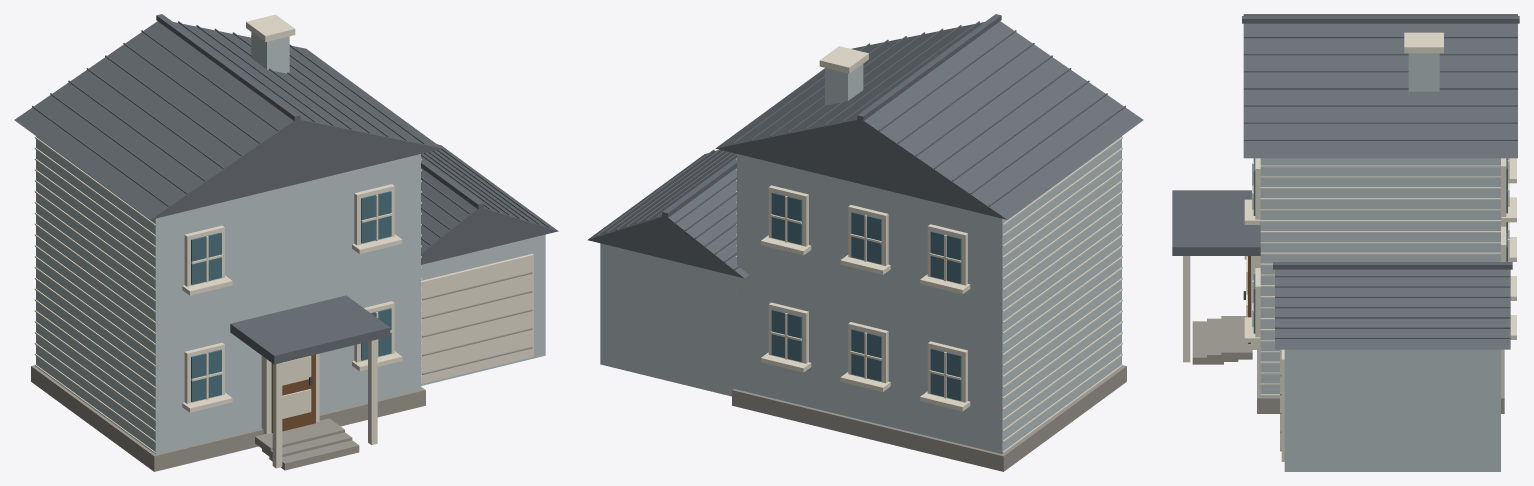
The model's file is house-1.glb.
3 renders of one model, left to right at view 1: azimuth 30°, elevation 25°; view 2: azimuth 150°, elevation 25°; view 3: azimuth 270°, elevation 25°, orthographic.
Visible parts, largest first — view 1: house-1; view 2: house-1; view 3: house-1.
Part boxes in pixels (bbox=[...]): house-1: bbox=[14, 14, 558, 471]; house-1: bbox=[587, 14, 1143, 471]; house-1: bbox=[1172, 14, 1519, 471].
Bounding box in the file's own units: 10.22 × 7.77 × 7.23.
